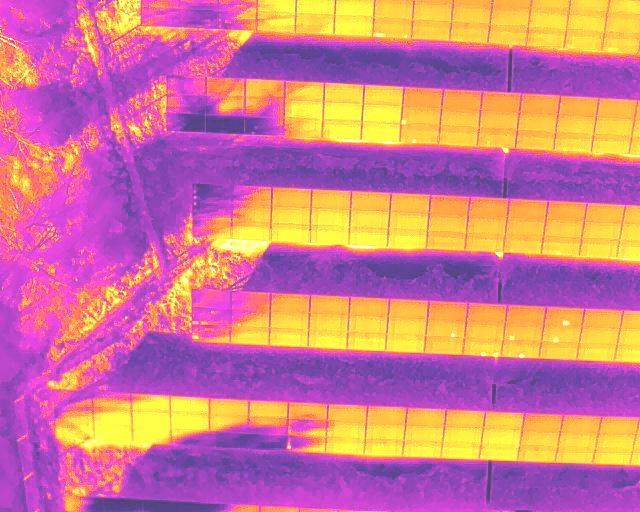Cell: (478, 129, 517, 147), (544, 308, 583, 326), (542, 238, 580, 256), (231, 309, 270, 326), (426, 320, 465, 337), (400, 125, 438, 142), (400, 108, 440, 124), (541, 326, 581, 342), (504, 325, 544, 340)
Cell-Multi: (602, 32, 639, 53), (553, 133, 593, 151), (373, 18, 410, 37), (501, 340, 541, 357), (463, 339, 503, 355), (193, 326, 230, 343), (193, 310, 231, 325)
No-Anomaly: (452, 2, 490, 24), (530, 6, 568, 28), (334, 15, 373, 36), (489, 24, 528, 45), (403, 87, 443, 107), (413, 0, 451, 21), (390, 193, 429, 213), (451, 23, 490, 43), (505, 306, 546, 325), (439, 124, 477, 144), (568, 10, 606, 30), (324, 84, 364, 103), (581, 310, 623, 328), (520, 95, 559, 114), (490, 5, 529, 24), (271, 187, 310, 206), (311, 189, 350, 208), (351, 191, 390, 210), (349, 227, 388, 246), (364, 85, 403, 104), (412, 21, 451, 40), (528, 28, 567, 47), (563, 31, 604, 49), (598, 99, 636, 118), (586, 203, 624, 222), (427, 232, 465, 251), (592, 135, 632, 153), (577, 344, 617, 362), (606, 11, 640, 32), (481, 92, 520, 110), (558, 97, 597, 115), (324, 120, 363, 138), (429, 195, 468, 213), (445, 410, 484, 428), (522, 413, 561, 431), (93, 409, 132, 427), (555, 116, 596, 133), (464, 321, 505, 338), (480, 111, 518, 129), (285, 119, 323, 137), (508, 200, 546, 218), (467, 216, 505, 234), (311, 225, 349, 243), (375, 0, 413, 18), (443, 90, 481, 108), (296, 16, 334, 34), (367, 406, 405, 424), (270, 329, 308, 347), (323, 103, 363, 120), (271, 207, 311, 224), (389, 212, 429, 229), (271, 225, 311, 242), (270, 295, 310, 312), (388, 301, 428, 318), (579, 327, 619, 344), (598, 416, 638, 433), (386, 334, 426, 351), (440, 108, 479, 125), (516, 131, 555, 148), (468, 199, 507, 216), (547, 202, 586, 219), (429, 214, 468, 231), (506, 218, 545, 235), (582, 222, 621, 239), (132, 428, 171, 445), (596, 433, 635, 450), (171, 396, 210, 413), (288, 402, 327, 419), (328, 404, 367, 421), (405, 408, 444, 425), (348, 317, 387, 334), (518, 114, 559, 130), (363, 105, 401, 122), (365, 439, 403, 456), (504, 236, 542, 253), (579, 239, 617, 256), (310, 314, 348, 331), (133, 411, 171, 428), (594, 118, 634, 134), (310, 297, 350, 313), (466, 305, 506, 321), (387, 318, 427, 334), (425, 338, 465, 354), (545, 219, 582, 236), (561, 415, 598, 432), (311, 209, 350, 225), (350, 211, 389, 227), (388, 230, 427, 246), (327, 422, 366, 438), (442, 442, 481, 458), (349, 300, 388, 316), (427, 304, 466, 320), (270, 312, 309, 328), (231, 328, 270, 344), (210, 399, 249, 415), (249, 401, 288, 417), (170, 413, 209, 429), (285, 101, 323, 117), (361, 123, 399, 139), (232, 224, 270, 240), (482, 429, 520, 445), (465, 235, 503, 251), (485, 412, 523, 428), (309, 331, 347, 347), (347, 334, 385, 350), (518, 446, 558, 461), (481, 445, 518, 461), (366, 424, 405, 439), (404, 426, 443, 441), (326, 439, 365, 454), (403, 442, 442, 457), (296, 0, 335, 15), (540, 343, 579, 358), (93, 427, 131, 442), (521, 431, 559, 446), (559, 433, 596, 448), (558, 448, 595, 463), (337, 0, 374, 15), (444, 428, 483, 442), (594, 450, 632, 464), (257, 0, 295, 13)
Shadowing: (193, 184, 232, 203), (257, 13, 296, 32), (206, 79, 245, 98), (233, 186, 271, 205), (193, 291, 231, 310), (166, 96, 206, 114), (179, 10, 219, 28), (219, 12, 256, 31), (206, 98, 245, 116), (246, 98, 285, 116), (245, 117, 284, 135), (141, 9, 180, 27), (54, 409, 93, 427), (232, 206, 270, 224), (231, 292, 271, 309), (206, 116, 245, 133), (193, 204, 232, 221), (246, 81, 285, 98), (285, 83, 324, 100), (166, 115, 205, 131), (193, 222, 232, 238), (288, 420, 327, 436), (167, 79, 206, 95), (249, 432, 287, 448), (288, 436, 326, 452), (93, 392, 131, 408), (132, 395, 170, 411), (209, 430, 249, 445), (210, 415, 249, 430), (54, 427, 94, 441), (170, 431, 209, 445), (249, 417, 287, 431)
